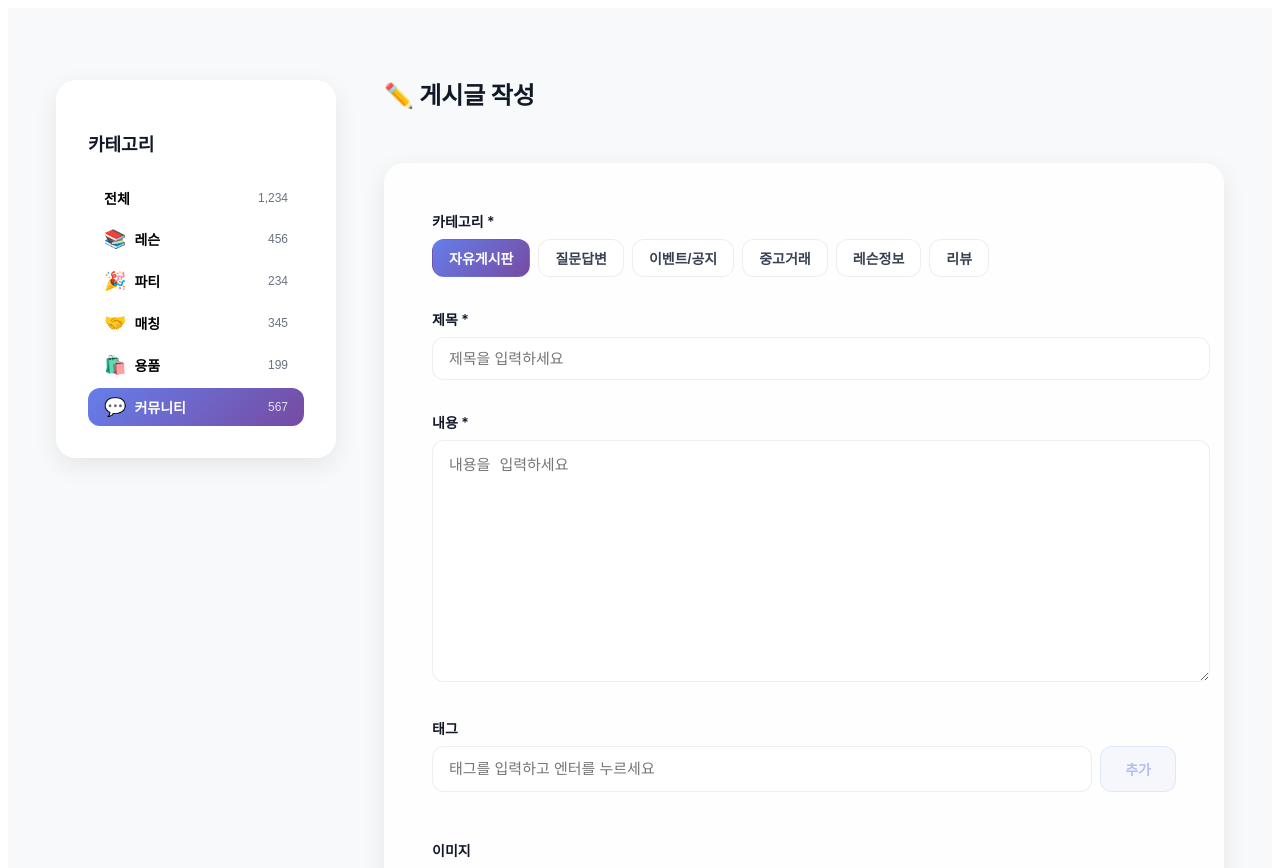
PostForm 컴포넌트 › 태그 관리 › 태그를 추가할 수 있다
Type "린디합" into the field with placeholder "태그를 입력하고 엔터를 누르세요" at [762, 769], box [432,746,1092,792]
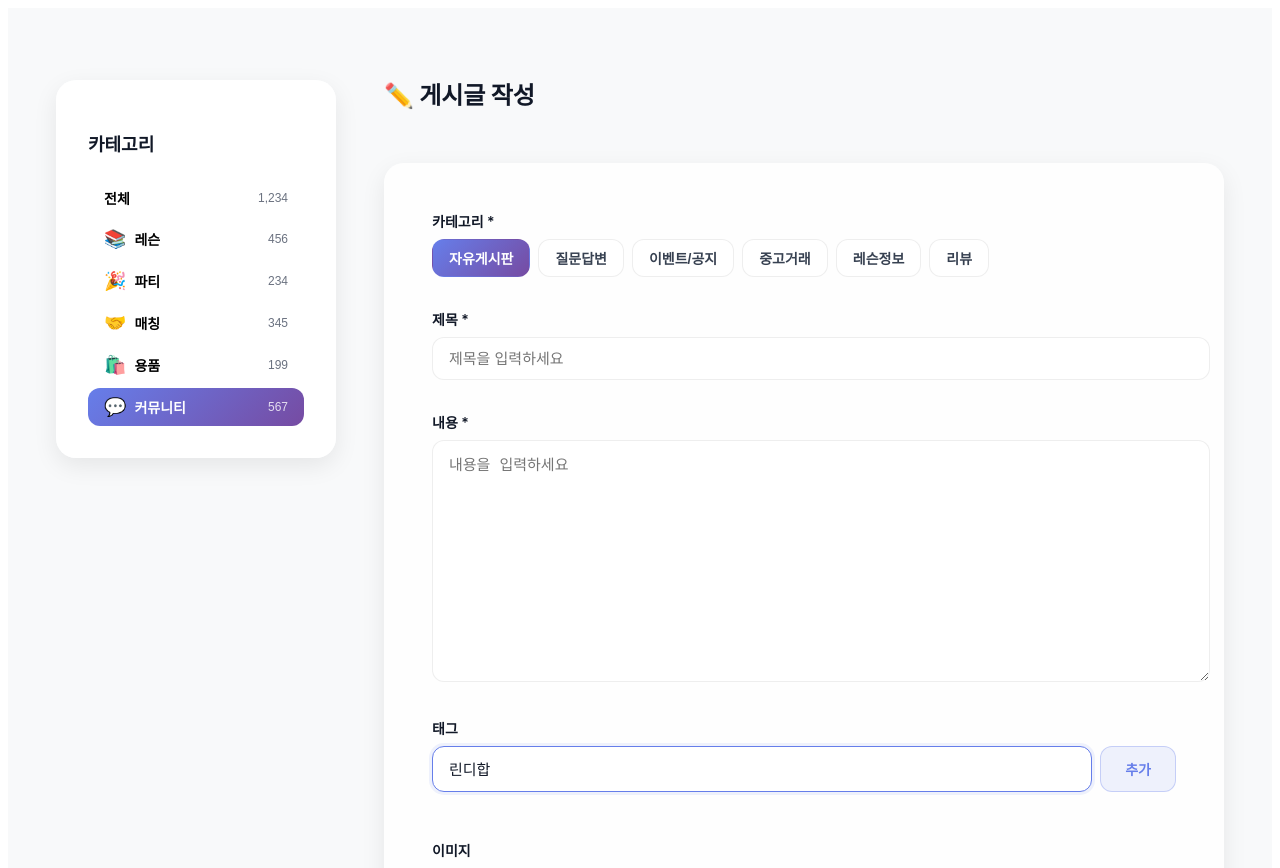
Click the button "추가" at [1138, 769], box [1100,746,1176,792]
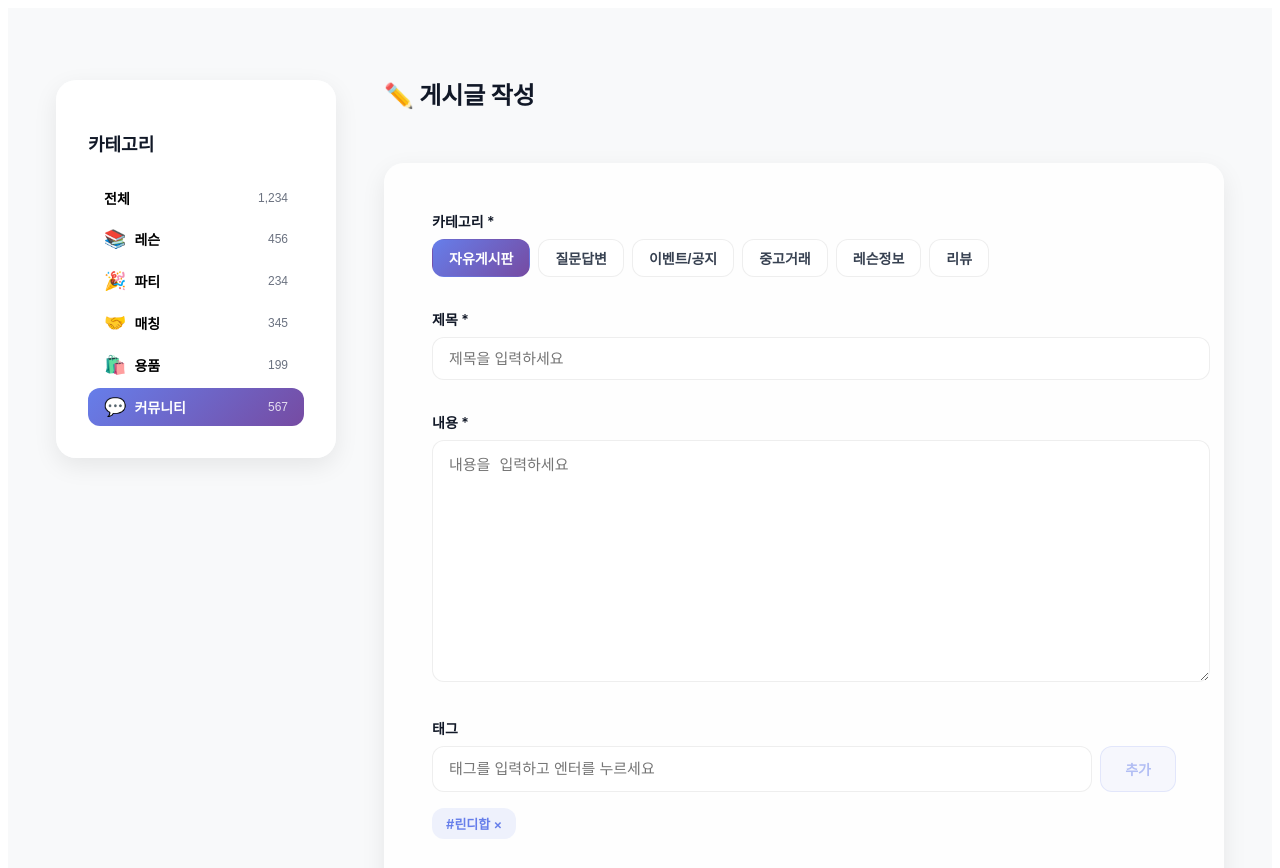
Expected: the text "#린디합 ×" is shown, [432,808,516,839]
Expected: the field with placeholder "태그를 입력하고 엔터를 누르세요" is empty, [432,746,1092,792]
